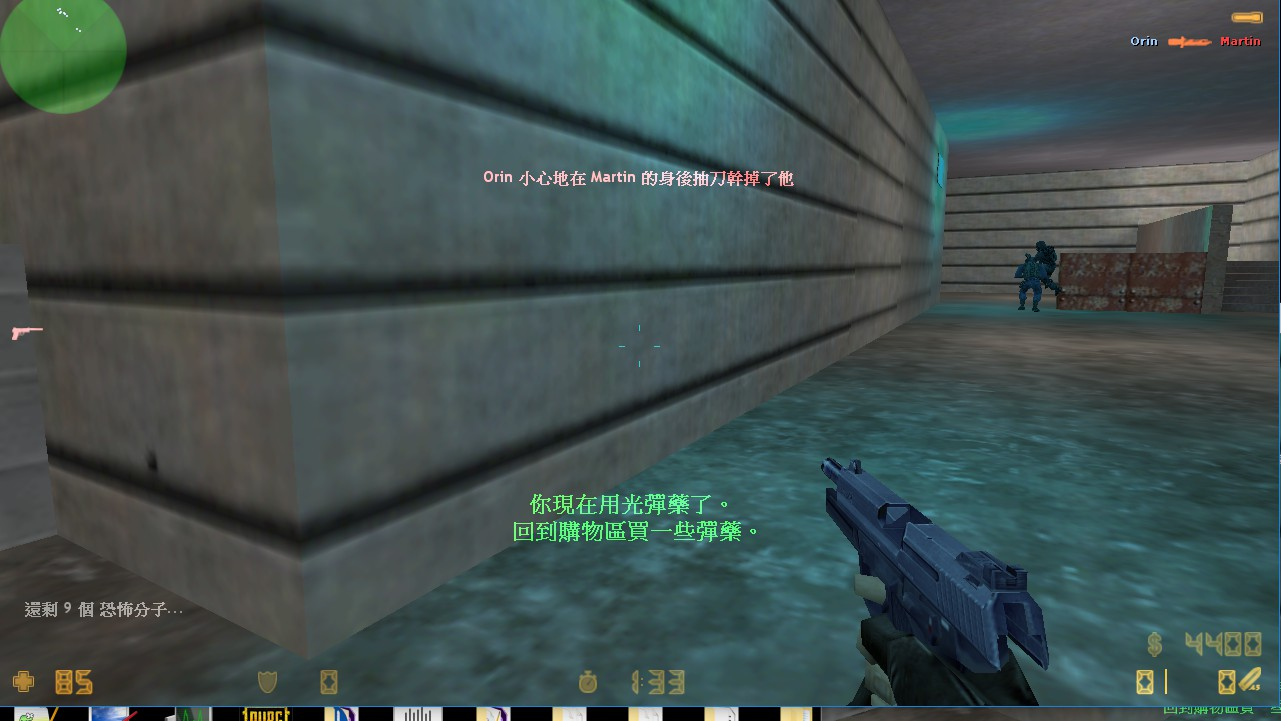person: (1015, 253, 1047, 309), (1031, 241, 1059, 293)
